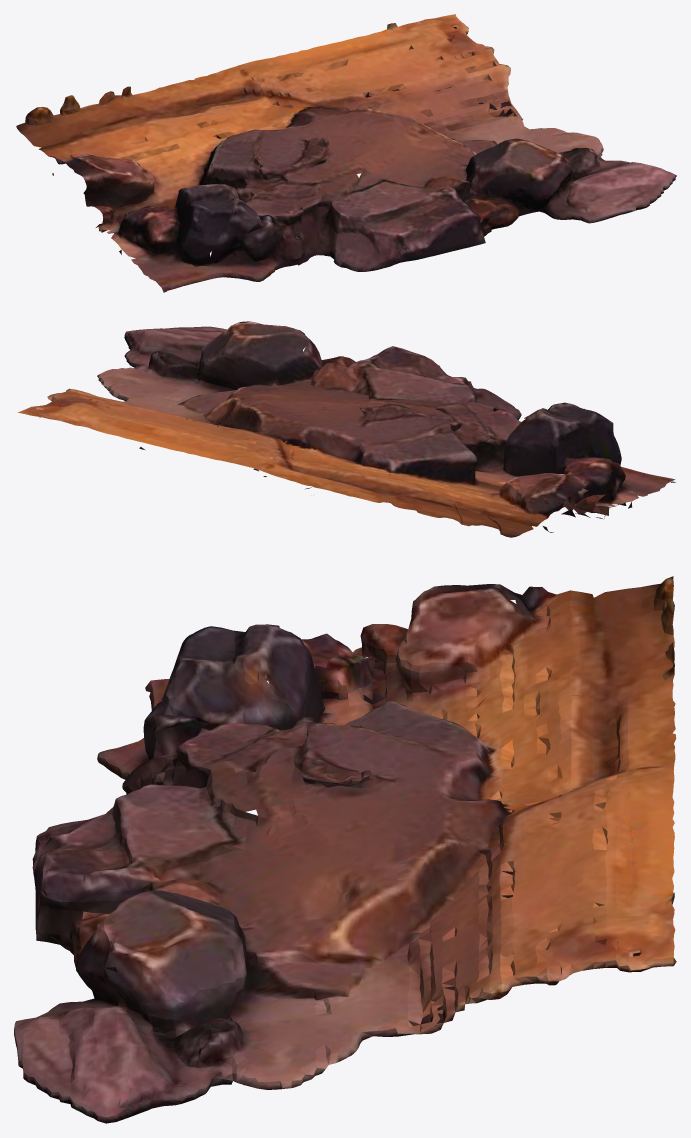
The model's file is pedras.glb.
The picture shows the model from 3 angles, top to bottom: view 1: azimuth 30°, elevation 25°; view 2: azimuth 150°, elevation 25°; view 3: azimuth 270°, elevation 25°; orthographic projection. The views are drawn at different scales.
Visible parts, largest first — view 1: plush; view 2: plush; view 3: plush.
Boxes of the visible parts, x1,y1,x2,y2 form: plush: [16, 14, 676, 292]; plush: [18, 321, 675, 537]; plush: [14, 576, 676, 1123].
Bounding box in the file's own units: 0.9758 × 0.1439 × 0.6207.
1 material, 1 textured.
